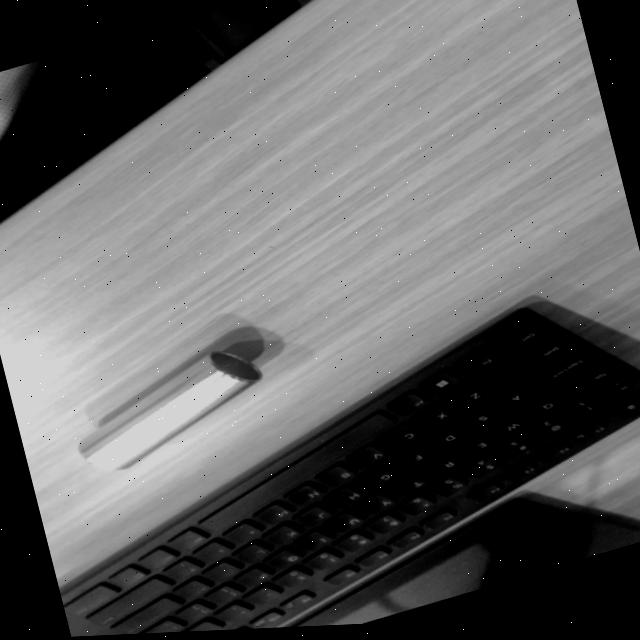Co_Lon: (72, 333, 263, 484)
